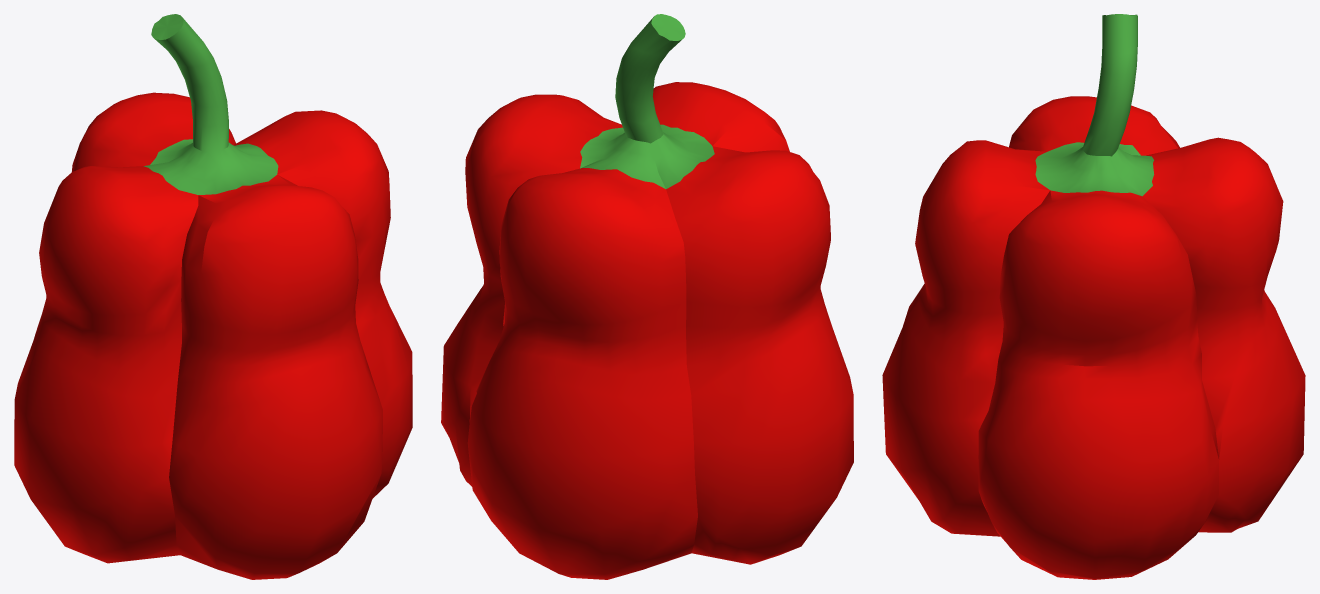
File: mesh_capsicum1.fbx
3 renders of one model, left to right at view 1: azimuth 30°, elevation 25°; view 2: azimuth 150°, elevation 25°; view 3: azimuth 270°, elevation 25°, orthographic. The views are drawn at different scales.
Visible parts, largest first — view 1: Capsicum1.001; view 2: Capsicum1.001; view 3: Capsicum1.001.
Boxes of the visible parts, x1=… form: Capsicum1.001: x1=14, y1=14, x2=412, y2=579; Capsicum1.001: x1=441, y1=14, x2=853, y2=579; Capsicum1.001: x1=882, y1=14, x2=1305, y2=579.
Size of the model in its own units: 357 by 470 by 360.
